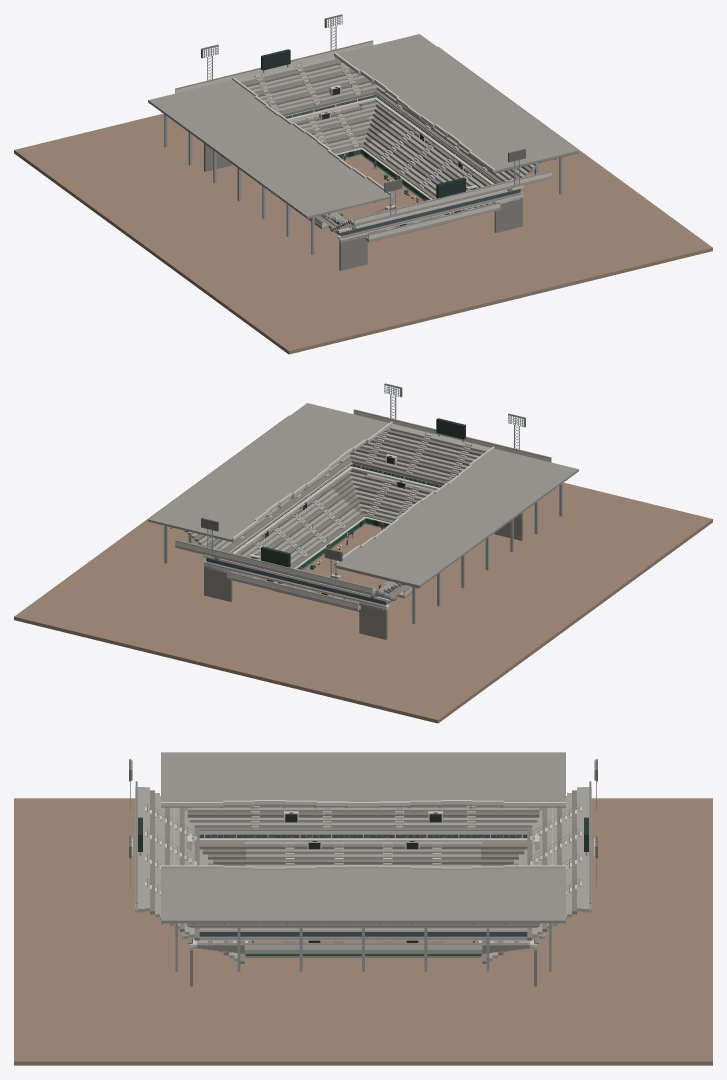
File: muse-open-arena.glb
The picture shows the model from 3 angles, top to bottom: view 1: azimuth 30°, elevation 25°; view 2: azimuth 150°, elevation 25°; view 3: azimuth 270°, elevation 25°; orthographic projection. The views are drawn at different scales.
Parts seen in each view (by area): view 1: sandstone, roof_shadow, pale, concrete_dark, concrete, steel, glass, screen_frame, roof_metal; view 2: sandstone, roof_shadow, pale, concrete_dark, concrete, steel, glass, screen_frame, roof_metal; view 3: sandstone, roof_shadow, concrete, concrete_dark, pale, steel, glass, roof_metal.
Part boxes in pixels (x1,y1,x2,y2): sandstone: [14, 46, 712, 354]; roof_shadow: [148, 34, 578, 218]; pale: [175, 41, 551, 242]; concrete_dark: [175, 40, 551, 270]; concrete: [236, 55, 551, 241]; steel: [164, 16, 562, 254]; glass: [285, 95, 520, 235]; screen_frame: [261, 49, 465, 198]; roof_metal: [149, 14, 577, 214]; sandstone: [14, 415, 712, 723]; roof_shadow: [148, 403, 578, 587]; pale: [175, 410, 551, 611]; concrete_dark: [175, 409, 551, 639]; concrete: [175, 424, 490, 610]; steel: [164, 385, 562, 623]; glass: [206, 464, 441, 604]; screen_frame: [261, 418, 465, 567]; roof_metal: [170, 383, 566, 588]; sandstone: [14, 798, 712, 1065]; roof_shadow: [161, 752, 565, 923]; concrete: [135, 787, 591, 961]; concrete_dark: [135, 781, 591, 986]; pale: [136, 800, 590, 950]; steel: [130, 760, 596, 971]; glass: [192, 834, 534, 942]; roof_metal: [129, 759, 597, 924].
Size of the model in its own units: 98 by 22.88 by 110.
